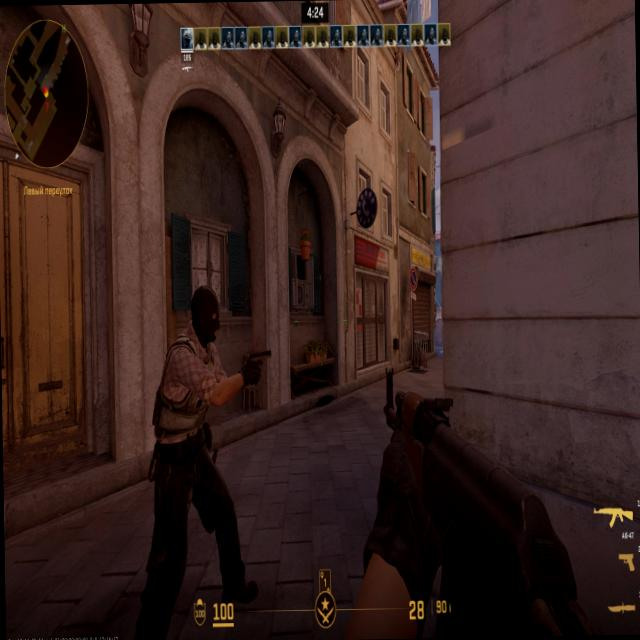T: (175, 284, 224, 528)
T_heat: (194, 294, 210, 326)
